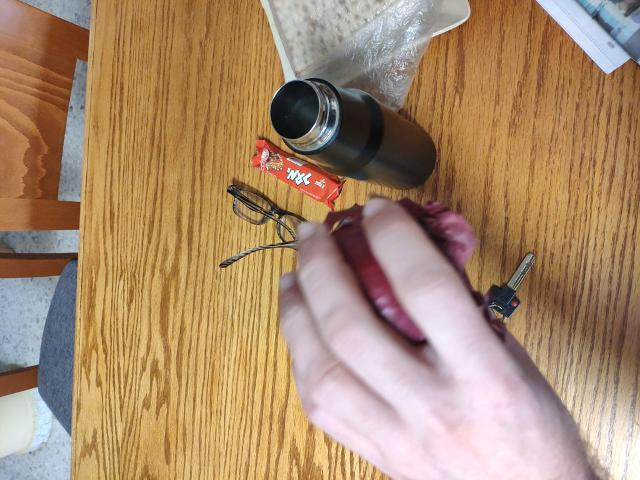onion: (314, 231, 491, 379)
